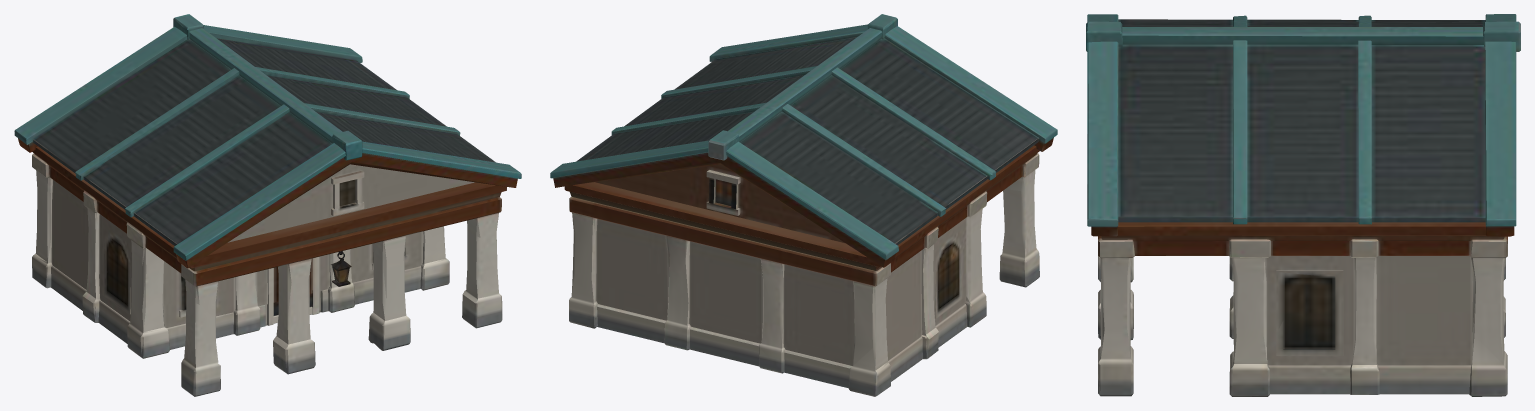
File: city-guild-map.glb
3 renders of one model, left to right at view 1: azimuth 30°, elevation 25°; view 2: azimuth 150°, elevation 25°; view 3: azimuth 270°, elevation 25°, orthographic. The views are drawn at different scales.
Bounding box in the file's own units: 0.9541 × 0.6016 × 0.853.
1 material, 1 textured.
